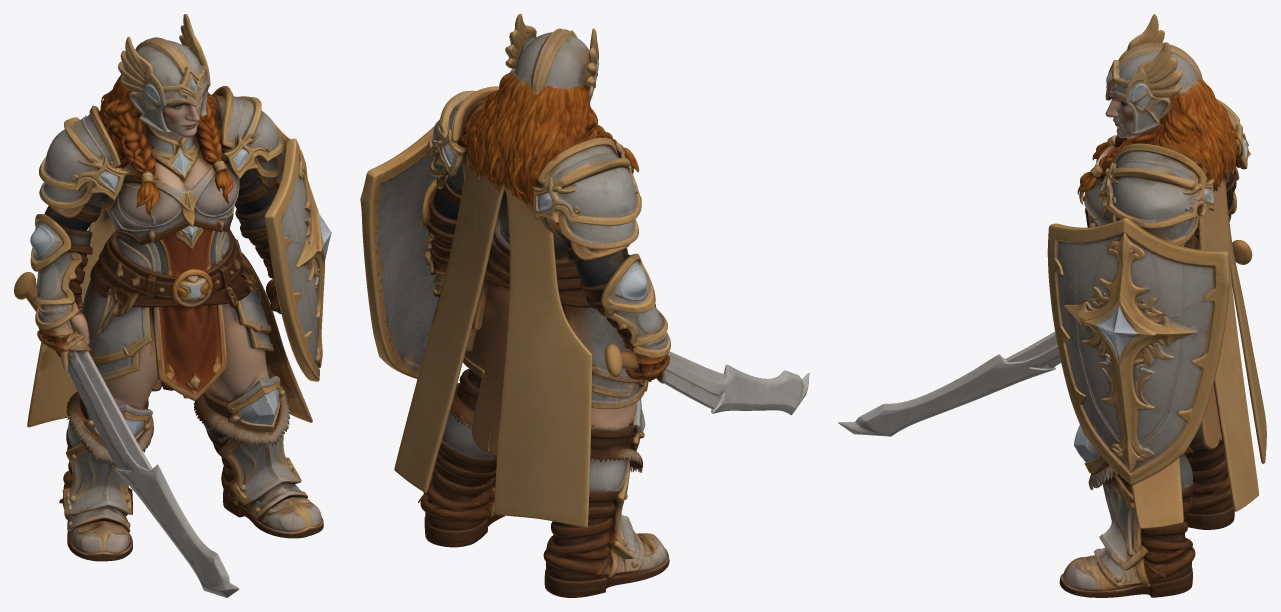
Rendered from dwarf_warrior_full_female.glb.
3 views of the same model, side by side, from view 1: azimuth 30°, elevation 25°; view 2: azimuth 150°, elevation 25°; view 3: azimuth 270°, elevation 25° (orthographic). The views are drawn at different scales.
Visible parts, largest first — view 1: material; view 2: material; view 3: material.
Part boxes in pixels (<box>): material: <box>14,14,331,597</box>; material: <box>360,14,809,597</box>; material: <box>838,14,1266,597</box>.
Size of the model in its own units: 0.5525 by 0.9897 by 0.7533.
1 material, 1 textured.
